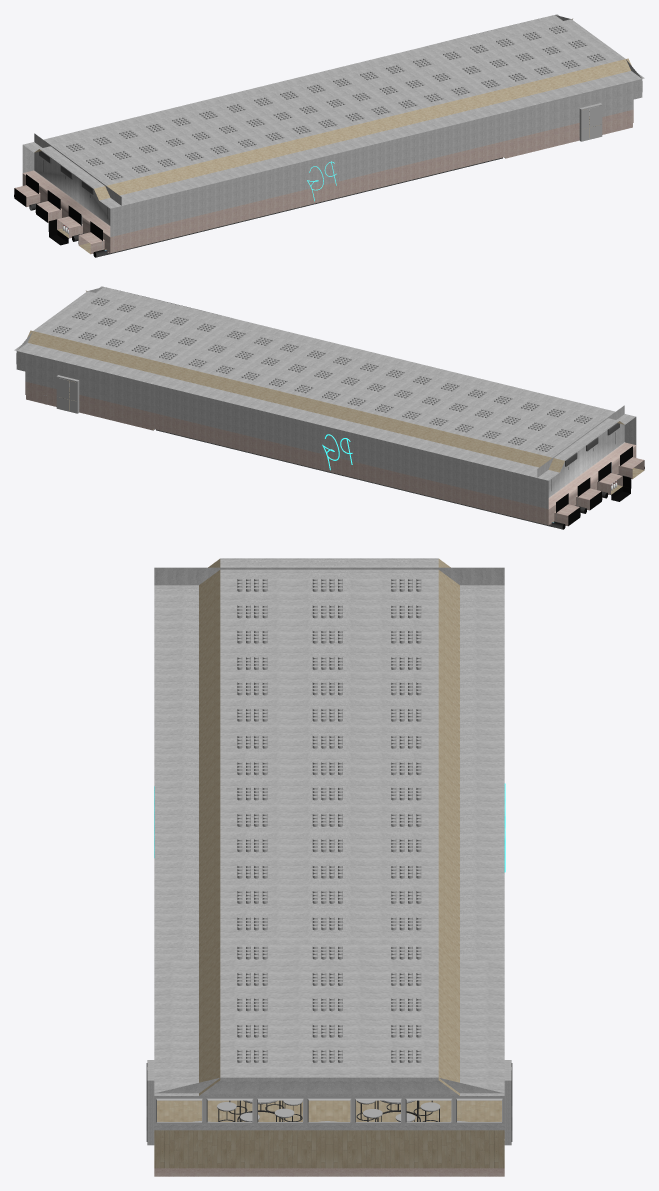
Rendered from bowling_club.glb.
3 renders of one model, top to bottom at view 1: azimuth 30°, elevation 25°; view 2: azimuth 150°, elevation 25°; view 3: azimuth 270°, elevation 25°, orthographic. The views are drawn at different scales.
Visible parts, largest first — view 1: Plane001_Material #154_0, Plane001_plast_0, Plane001_Material #25_0, Cylinder003_Material #191_0 (×3), Plane001_metall_0, Plane001_Material #191_0, Plane001_ch_0, Plane001_Material #179_0; view 2: Plane001_Material #154_0, Plane001_plast_0, Plane001_Material #25_0, Cylinder003_Material #191_0 (×3), Plane001_metall_0, Plane001_Material #191_0, Plane001_ch_0, Plane001_Material #179_0; view 3: Plane001_Material #154_0, Plane001_Material #25_0, Cylinder003_Material #191_0 (×3), Plane001_Material #191_0, Plane001_plast_0.
Boxes of the visible parts, x1,y1,x2,y2 form: Plane001_Material #154_0: (22, 14, 644, 237); Plane001_plast_0: (15, 109, 633, 253); Plane001_Material #25_0: (34, 18, 631, 253); Cylinder003_Material #191_0 (×3): (66, 25, 605, 179); Plane001_metall_0: (29, 157, 502, 257); Plane001_Material #191_0: (102, 81, 642, 249); Plane001_ch_0: (14, 157, 505, 257); Plane001_Material #179_0: (26, 174, 102, 240); Plane001_Material #154_0: (14, 286, 636, 509); Plane001_plast_0: (25, 381, 644, 525); Plane001_Material #25_0: (27, 290, 644, 522); Cylinder003_Material #191_0 (×3): (53, 297, 592, 451); Plane001_metall_0: (156, 429, 629, 529); Plane001_Material #191_0: (16, 353, 577, 521); Plane001_ch_0: (153, 429, 644, 529); Plane001_Material #179_0: (556, 446, 632, 512); Plane001_Material #154_0: (147, 558, 511, 1145); Plane001_Material #25_0: (154, 559, 504, 1168); Cylinder003_Material #191_0 (×3): (237, 577, 421, 1062); Plane001_Material #191_0: (147, 1067, 511, 1124); Plane001_plast_0: (154, 1168, 504, 1176).
Size of what is drawn, in the model's own units: 37.18 by 3.85 by 10.56.
19 materials, 3 textured.
